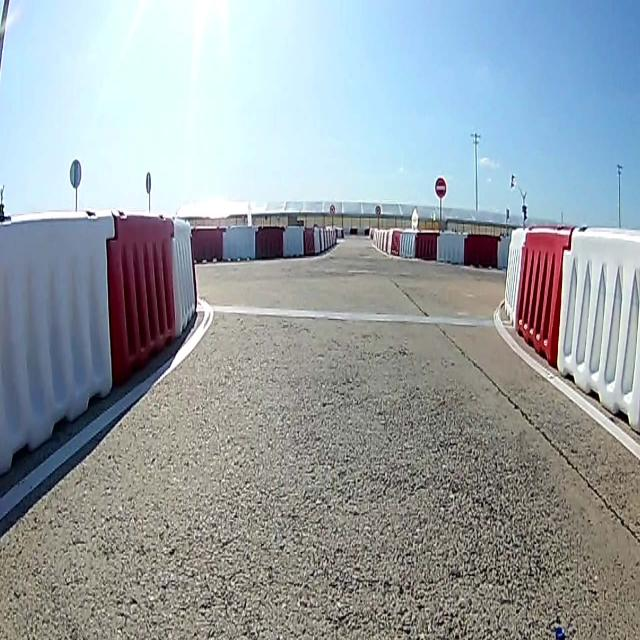girisyok: (433, 178, 447, 197)
